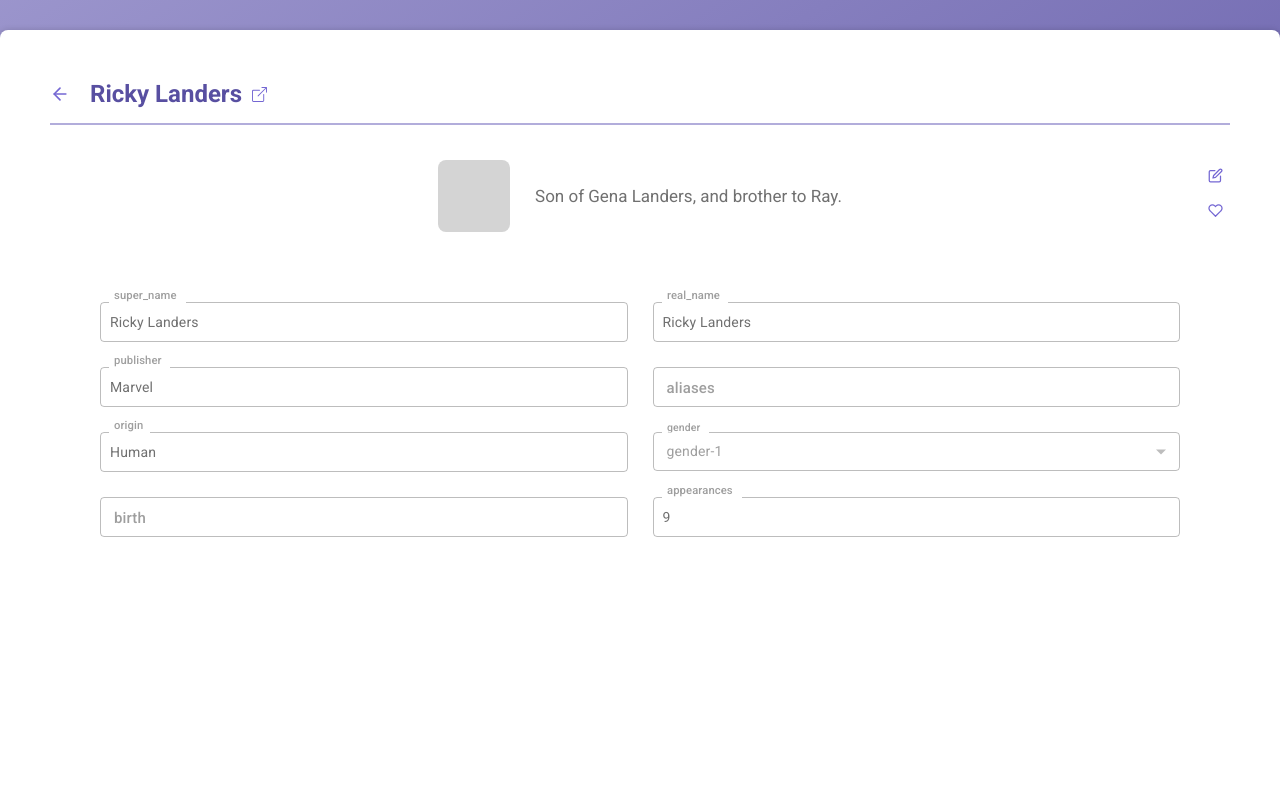
Scenario: CharacterInfo › should be able to edit character
Click the button with test id "edit-button": [1215, 175] box [1208,168,1222,182]
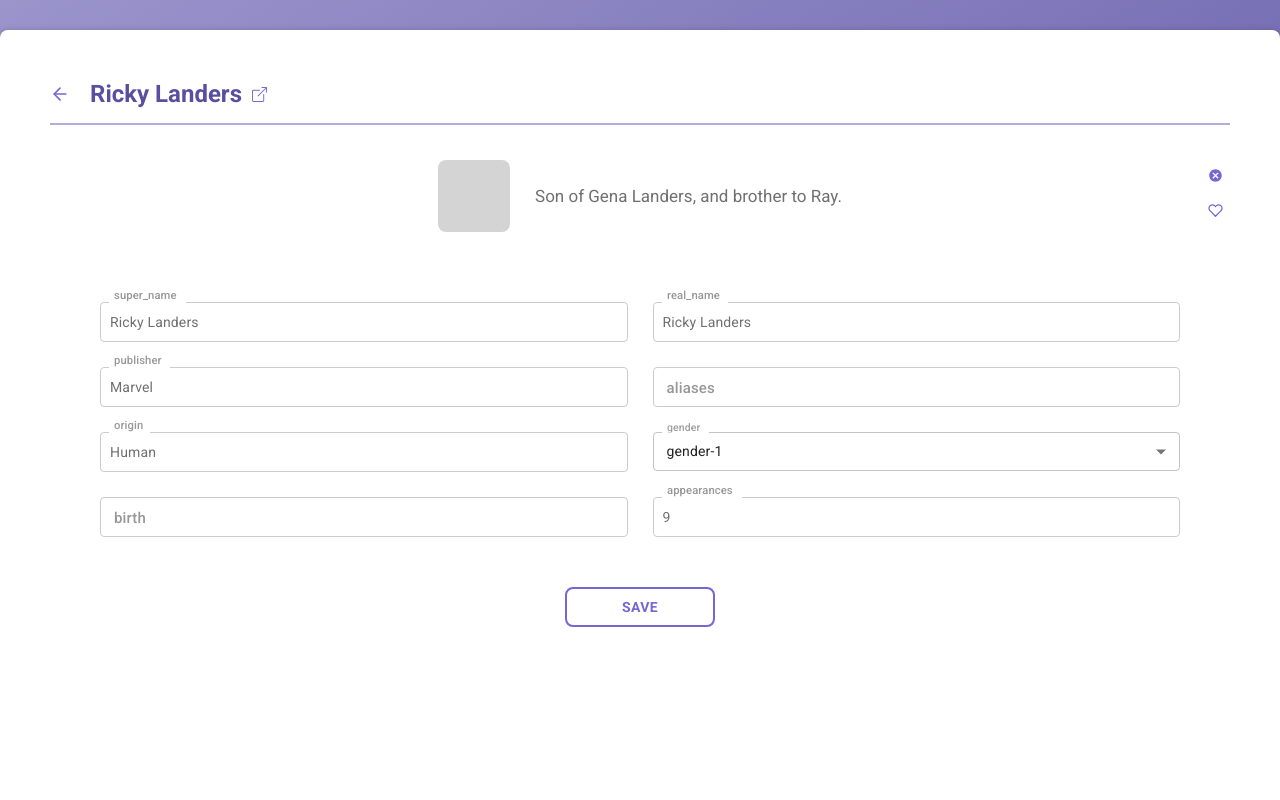
Replace the text in the field with test id "name-input" with "Test Name": [364, 322] box [100,302,628,342]
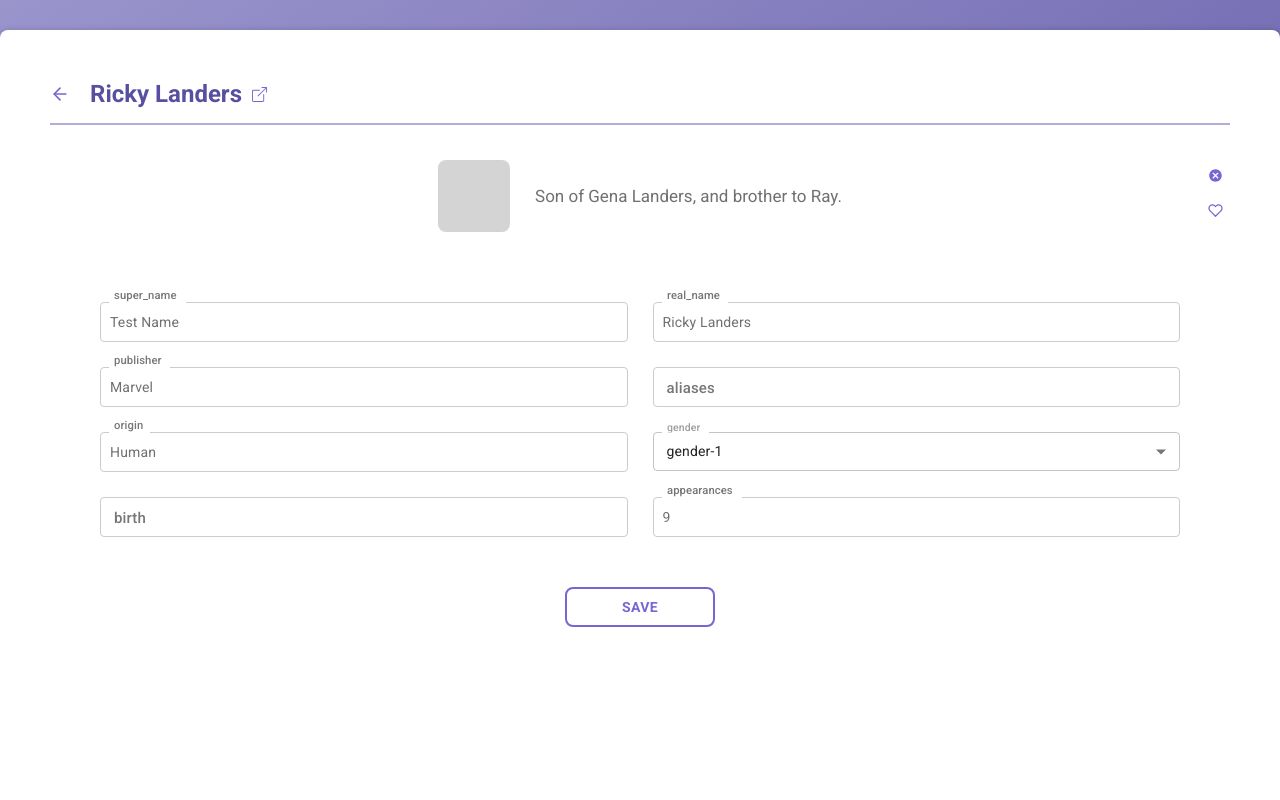
Click the button with test id "submit-button": [640, 607] box [565,587,715,627]
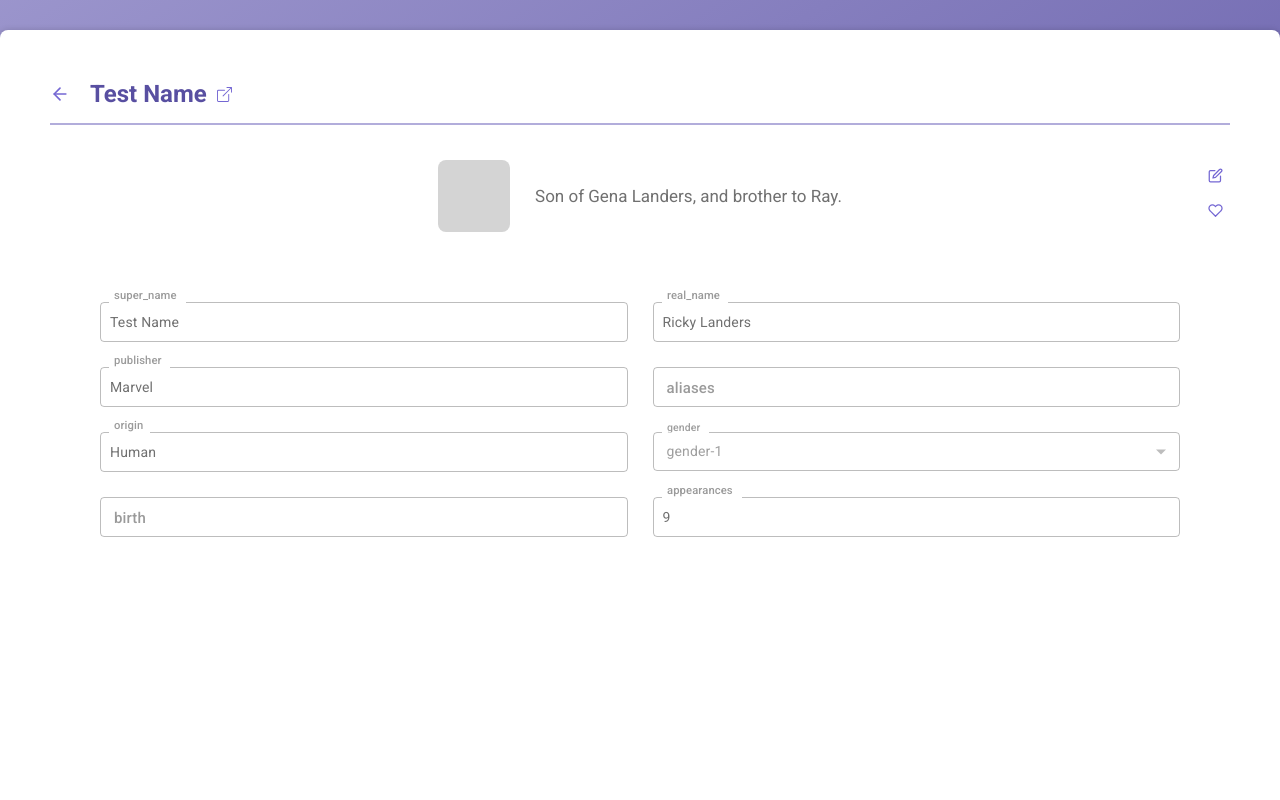
Result: the heading with test id "character-name" reads "Test Name" at [90,80,207,108]
